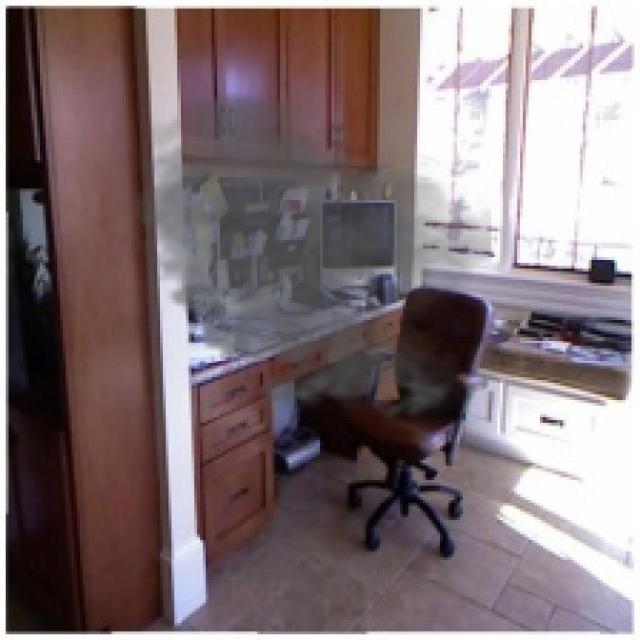smoke: (114, 86, 492, 428)
